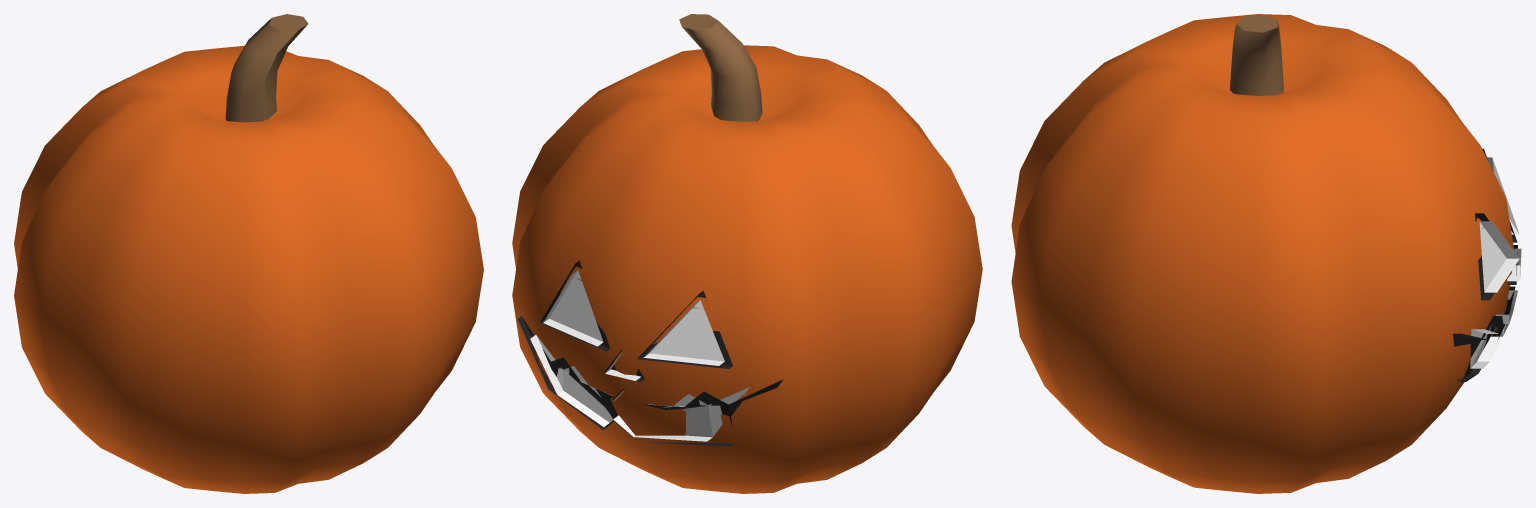
File: JACK_O_LANTERN.glb
3 renders of one model, left to right at view 1: azimuth 30°, elevation 25°; view 2: azimuth 150°, elevation 25°; view 3: azimuth 270°, elevation 25°, orthographic. The views are drawn at different scales.
Parts seen in each view (by area): view 1: plastic_0, wood_2; view 2: plastic_0, lamps_3, wood_2, tread_1; view 3: plastic_0, wood_2, lamps_3, tread_1.
Part boxes in pixels (bbox=[...]): plastic_0: bbox=[14, 45, 483, 493]; wood_2: bbox=[225, 14, 308, 122]; plastic_0: bbox=[512, 45, 982, 493]; lamps_3: bbox=[530, 270, 749, 441]; wood_2: bbox=[679, 14, 762, 121]; tread_1: bbox=[518, 260, 783, 446]; plastic_0: bbox=[1011, 14, 1514, 493]; wood_2: bbox=[1230, 15, 1283, 95]; lamps_3: bbox=[1470, 157, 1521, 368]; tread_1: bbox=[1453, 148, 1517, 381].
Size of the model in its own units: 0.6071 by 0.5973 by 0.616.
